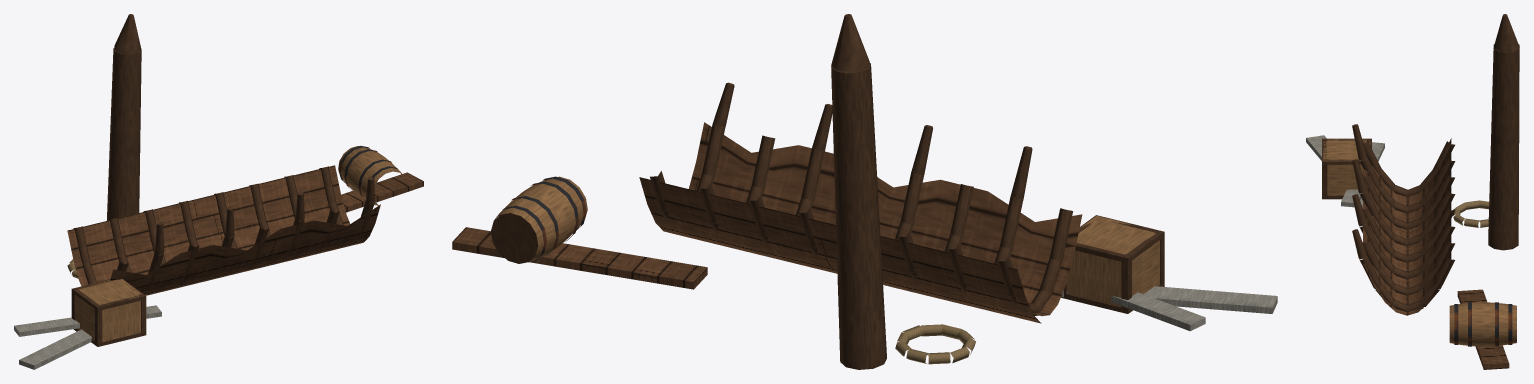
Rendered from SM_Art_HarlowWreckage.gltf.
3 views of the same model, side by side, from view 1: azimuth 30°, elevation 25°; view 2: azimuth 150°, elevation 25°; view 3: azimuth 270°, elevation 25° (orthographic). The views are drawn at different scales.
Visible parts, largest first — view 1: SM_Art_HarlowWreckage; view 2: SM_Art_HarlowWreckage; view 3: SM_Art_HarlowWreckage.
Boxes of the visible parts, x1,y1,x2,y2 form: SM_Art_HarlowWreckage: (14,14,423,369); SM_Art_HarlowWreckage: (452,14,1277,369); SM_Art_HarlowWreckage: (1306,14,1519,369).
Bounding box in the file's own units: 6.74 × 3.21 × 2.67.
Materials: 6 (6 with a texture image).
